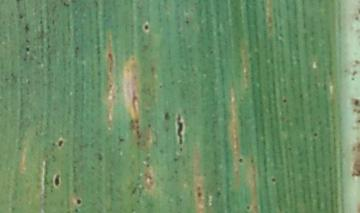tarspot: (174, 111, 188, 153), (142, 19, 152, 37), (52, 171, 62, 189), (55, 136, 68, 148), (195, 184, 204, 199), (73, 196, 85, 207), (163, 108, 171, 120), (237, 155, 245, 166), (270, 174, 277, 186), (282, 94, 289, 105), (310, 130, 319, 138), (23, 38, 32, 44), (25, 47, 32, 53), (245, 203, 250, 211)
